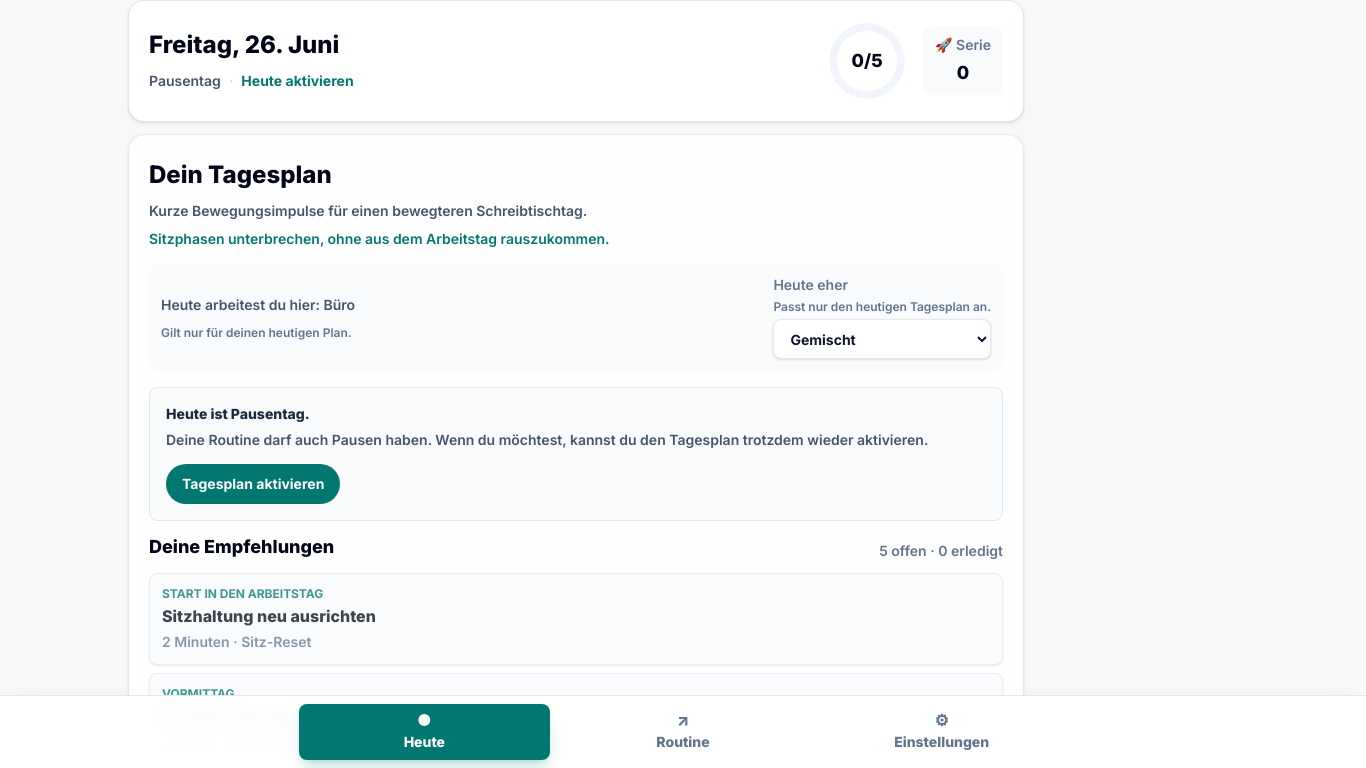
it: ResultScreen daily workday context helpers › respects inactive routine weekdays as pause days until today is activated
The width and height of the screenshot is (1366, 768).
Expected: the text "Nächster Impuls" is not shown
Click the button "Freitag, 26. Juni Pausentag · Heute aktivieren": {"x": 251, "y": 61} 149,29 -> 354,93
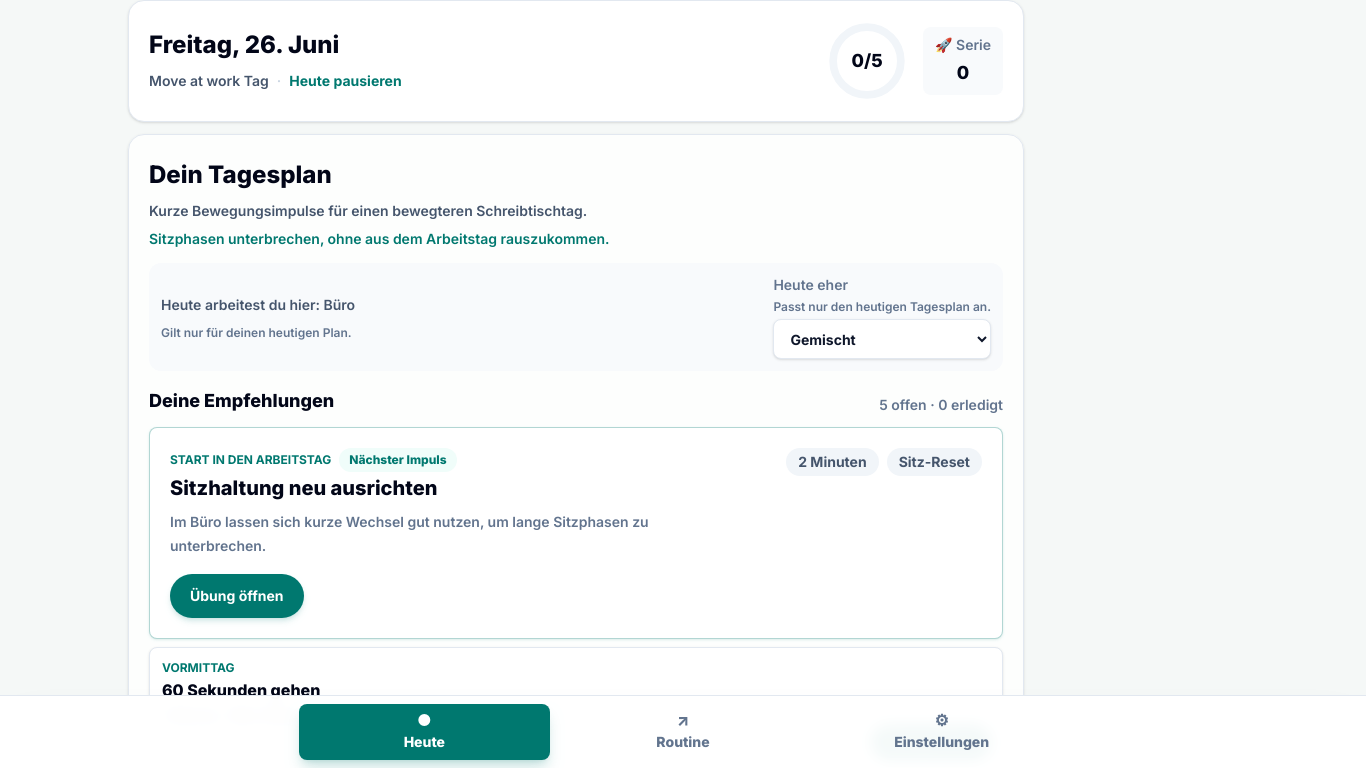
Expected: the text "Move at work Tag" is shown, 149,69 -> 269,93
Expected: the text "Heute pausieren" is shown, 289,69 -> 402,93
Expected: the text "Nächster Impuls" is shown, 339,448 -> 457,472
